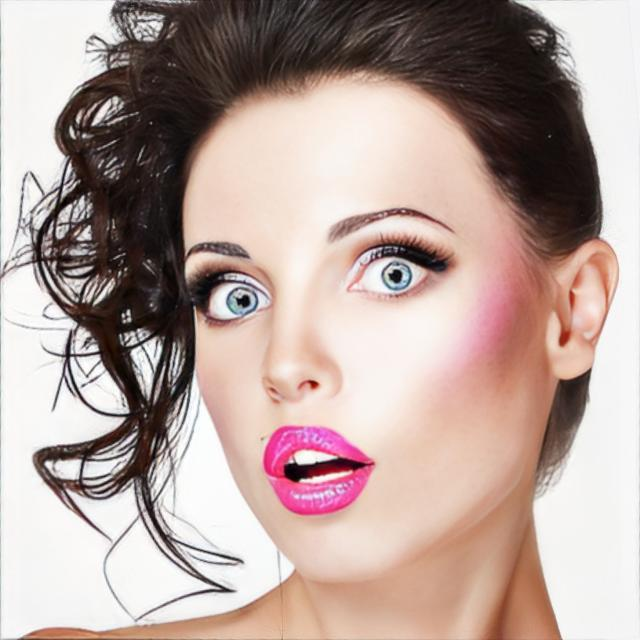surprise: (180, 68, 544, 583)
